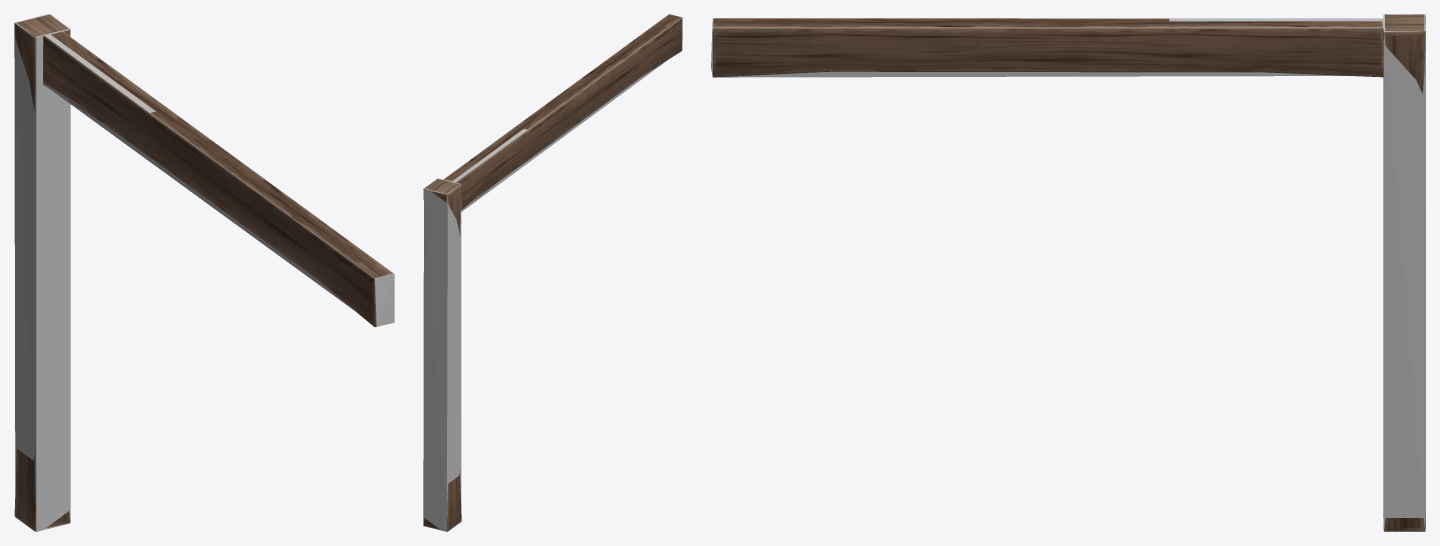
Rendered from SM_Hangar01B_3.fbx.
3 views of the same model, side by side, from view 1: azimuth 30°, elevation 25°; view 2: azimuth 150°, elevation 25°; view 3: azimuth 270°, elevation 25° (orthographic). The views are drawn at different scales.
Parts seen in each view (by area): view 1: SM_Hangar01B_3_ConvexHulls, SM_Hangar01B_3; view 2: SM_Hangar01B_3_ConvexHulls, SM_Hangar01B_3; view 3: SM_Hangar01B_3, SM_Hangar01B_3_ConvexHulls.
Part boxes in pixels (bbox=[...]): SM_Hangar01B_3_ConvexHulls: bbox=[14, 14, 394, 531]; SM_Hangar01B_3: bbox=[14, 14, 392, 531]; SM_Hangar01B_3_ConvexHulls: bbox=[423, 14, 682, 531]; SM_Hangar01B_3: bbox=[423, 14, 682, 531]; SM_Hangar01B_3: bbox=[713, 14, 1425, 531]; SM_Hangar01B_3_ConvexHulls: bbox=[711, 14, 1425, 531].
Bounding box in the file's own units: 26.83 × 453 × 350.
Materials: 2 (1 with a texture image).
